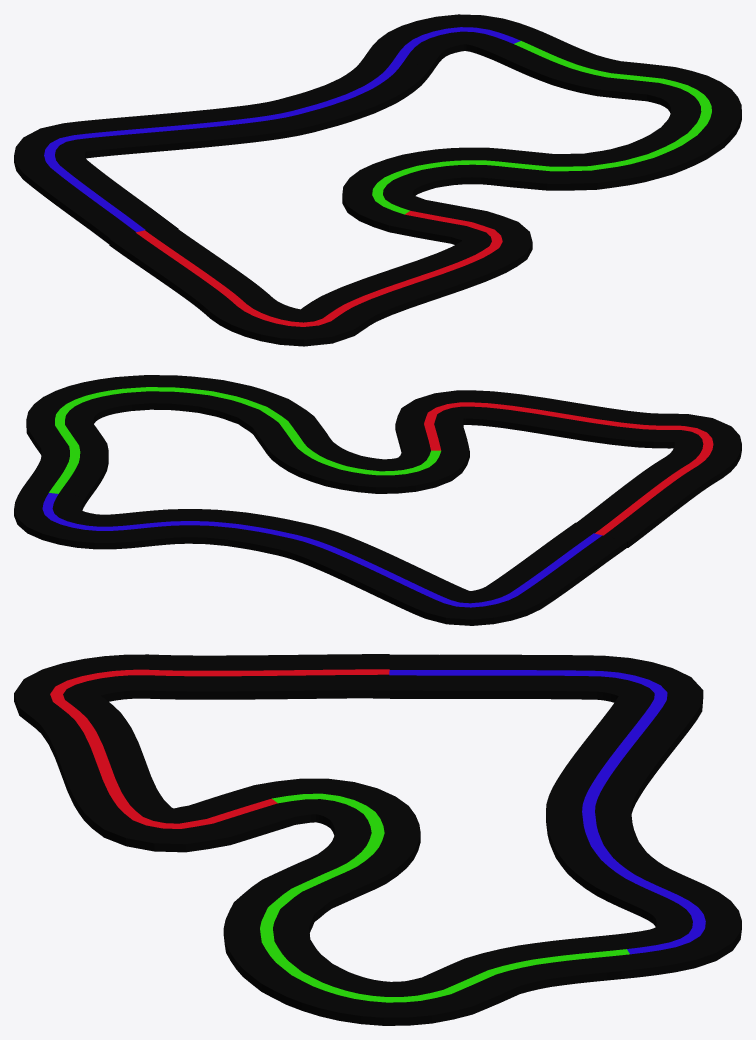
File: track.dae
3 renders of one model, top to bottom at view 1: azimuth 30°, elevation 25°; view 2: azimuth 150°, elevation 25°; view 3: azimuth 270°, elevation 25°, orthographic. The views are drawn at different scales.
Parts seen in each view (by area): view 1: Cube, Cube.001, Cube.002; view 2: Cube, Cube.001, Cube.002; view 3: Cube, Cube.001, Cube.002.
Boxes of the visible parts, <box> form: Cube: <box>14,14,541,243</box>; Cube.001: <box>342,32,741,231</box>; Cube.002: <box>109,200,532,346</box>; Cube: <box>14,489,626,625</box>; Cube.001: <box>21,375,469,502</box>; Cube.002: <box>395,390,741,547</box>; Cube: <box>373,654,741,976</box>; Cube.001: <box>223,778,639,1025</box>; Cube.002: <box>14,654,389,852</box>.
Bounding box in the file's own units: 56.33 × 47.64 × 0.5889.
